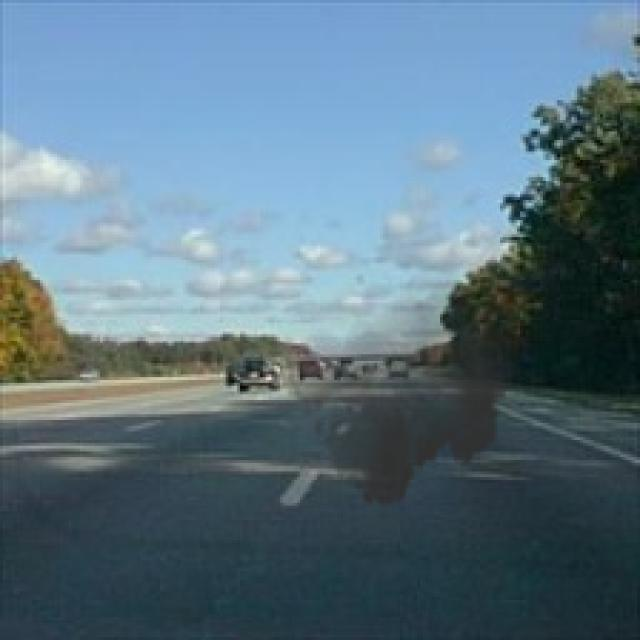Smoke: (280, 260, 520, 517)
